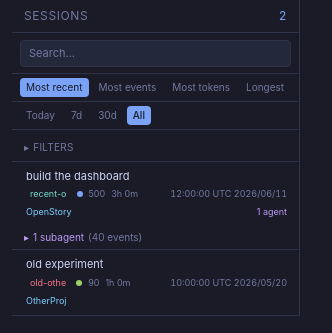
Test case: when filters are active › should clear everything with one click
The width and height of the screenshot is (332, 333).
Click the button with test id "date-range-7d".
click(77, 115)  # box top-left (65, 106), bottom-right (88, 124)
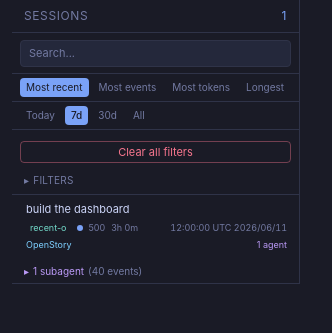
Expected: the button with test id "explore-session-old-otherproj" is gone
Click the button "Clear all filters".
click(156, 152)  # box top-left (20, 140), bottom-right (291, 163)
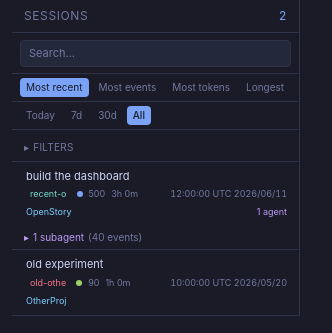
Expected: the button with test id "explore-session-old-otherproj" is shown, top-left (12, 250), bottom-right (299, 315)
